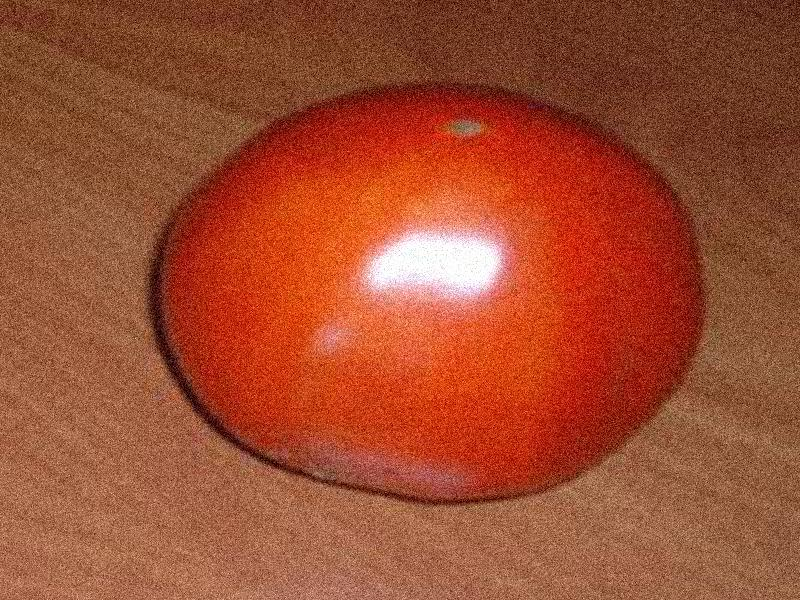Tomato: (150, 80, 710, 500)
